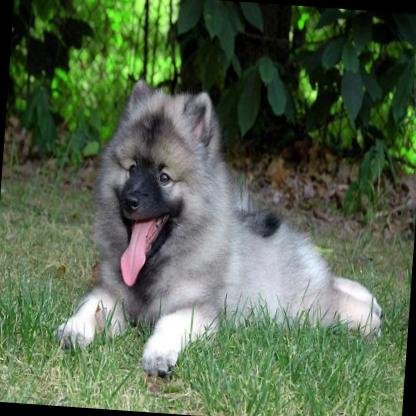keeshond: (49, 73, 396, 390)
